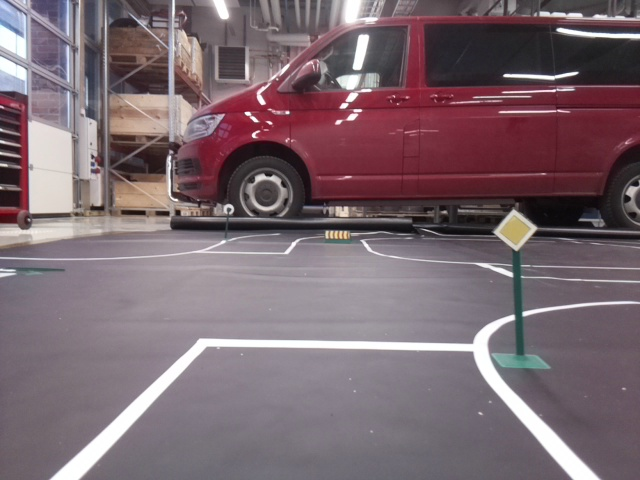Priority: (492, 208, 541, 249)
